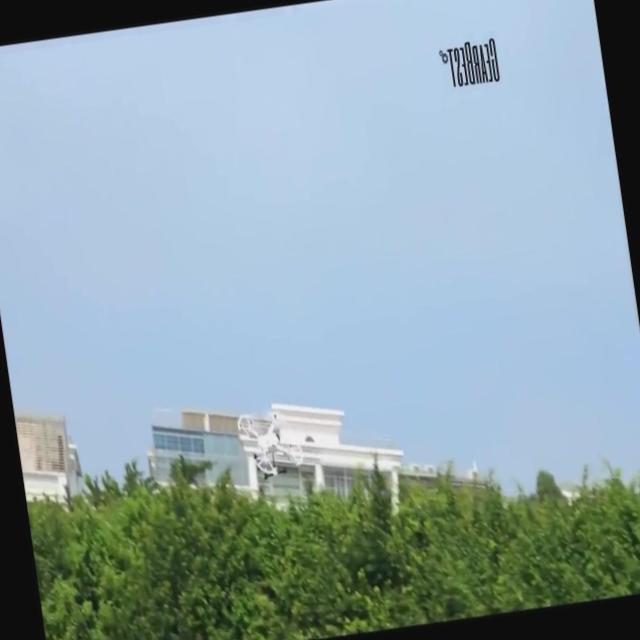drone: (235, 402, 307, 482)
